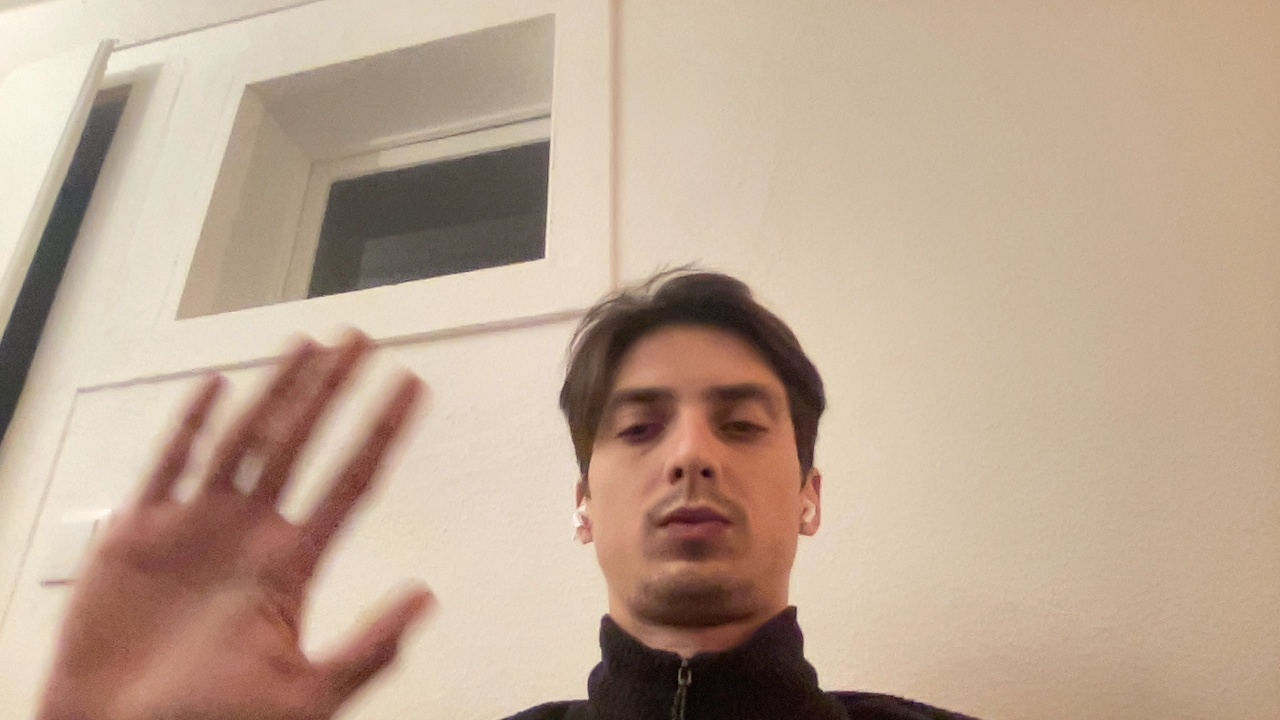Hello: (23, 314, 462, 712)
